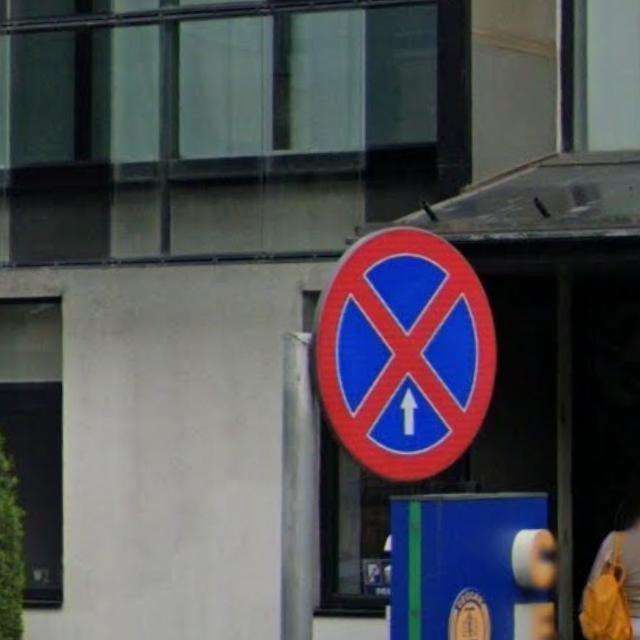forb_waiting: (316, 226, 497, 483)
